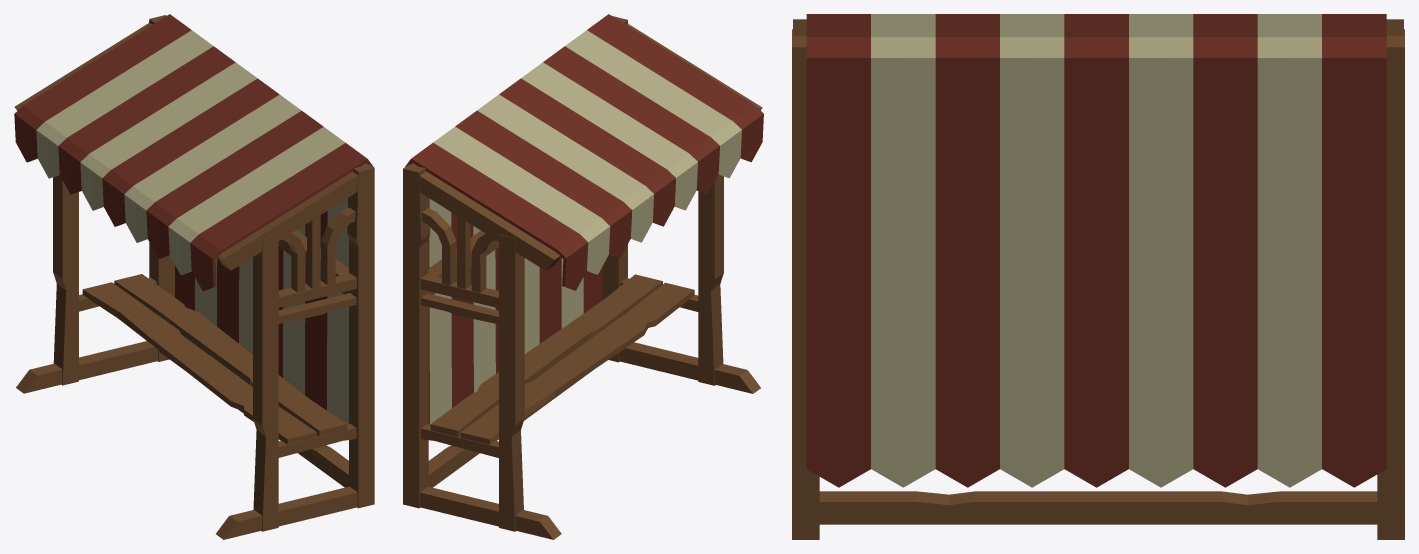
The model's file is MarketStand_2.glb.
The picture shows the model from 3 angles, left to right: view 1: azimuth 30°, elevation 25°; view 2: azimuth 150°, elevation 25°; view 3: azimuth 270°, elevation 25°; orthographic projection. The views are drawn at different scales.
Parts seen in each view (by area): view 1: MarketStand_2; view 2: MarketStand_2; view 3: MarketStand_2.
Part boxes in pixels (x1,y1,x2,y2): MarketStand_2: [14, 14, 374, 539]; MarketStand_2: [403, 14, 763, 539]; MarketStand_2: [792, 14, 1404, 539].
Size of the model in its own units: 0.5172 by 1.04 by 1.15.
